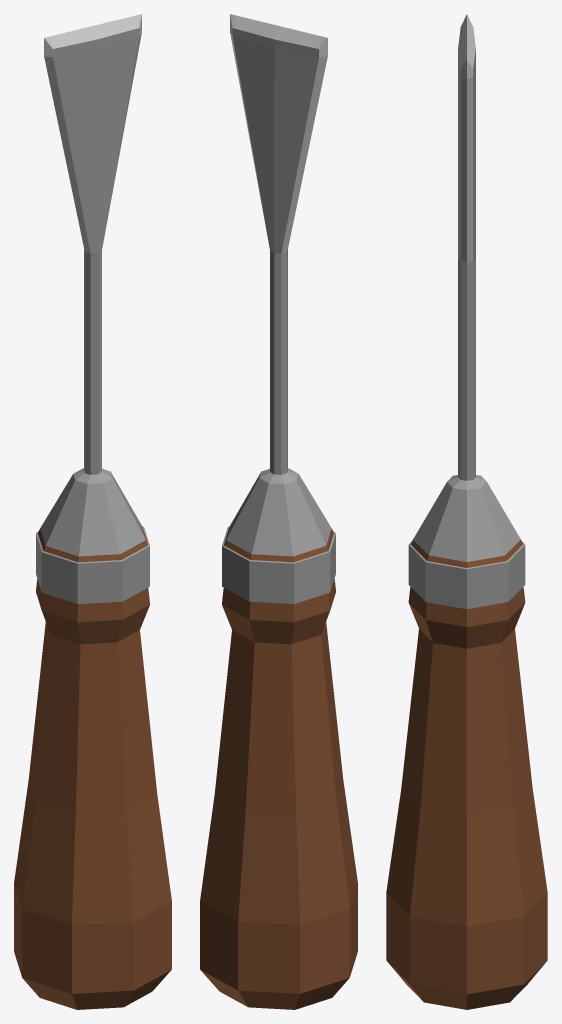
The model's file is chisel05.gltf.
The picture shows the model from 3 angles, left to right: view 1: azimuth 30°, elevation 25°; view 2: azimuth 150°, elevation 25°; view 3: azimuth 270°, elevation 25°; orthographic projection.
Parts seen in each view (by area): view 1: Cylinder; view 2: Cylinder; view 3: Cylinder.
Boxes of the visible parts, box(x1,y1,x2,y2) form: Cylinder: box(14, 14, 171, 1009); Cylinder: box(200, 14, 357, 1009); Cylinder: box(386, 14, 547, 1009).
Size of the model in its own units: 0.0276 by 0.1789 by 0.0276.
1 material, 1 textured.
